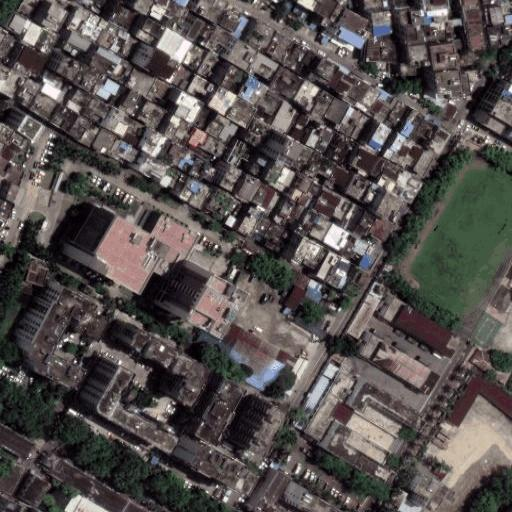building: (8, 276, 100, 386), (72, 200, 178, 283), (81, 352, 164, 443), (114, 320, 198, 396), (190, 329, 280, 394), (162, 259, 226, 328), (50, 458, 131, 512), (393, 304, 465, 362), (446, 369, 512, 428), (305, 369, 358, 440), (372, 342, 441, 396), (172, 435, 242, 488), (187, 375, 240, 443), (350, 380, 422, 430), (223, 322, 291, 374), (346, 282, 388, 341), (164, 143, 218, 187), (230, 395, 273, 450), (293, 376, 331, 430), (377, 162, 424, 205), (410, 471, 456, 512), (272, 351, 310, 400), (90, 45, 135, 84), (54, 56, 102, 92), (246, 468, 285, 512), (96, 24, 139, 61), (315, 251, 354, 291), (105, 109, 147, 146), (170, 91, 212, 128), (470, 348, 512, 385), (138, 153, 181, 189), (334, 9, 371, 50), (325, 424, 362, 465), (339, 235, 381, 271), (19, 20, 61, 55), (143, 47, 182, 84), (66, 6, 106, 42), (399, 108, 436, 145), (277, 137, 314, 174), (12, 44, 51, 79), (285, 483, 332, 512), (369, 93, 407, 128), (347, 76, 383, 111), (350, 146, 387, 180), (355, 452, 395, 483), (291, 237, 326, 272), (156, 29, 192, 63), (336, 107, 370, 142), (182, 45, 218, 78), (432, 70, 468, 102), (462, 6, 487, 51), (281, 41, 314, 75), (164, 113, 197, 146), (179, 177, 212, 210), (247, 52, 281, 84), (392, 138, 424, 171), (373, 190, 405, 223), (250, 183, 282, 216), (226, 40, 258, 72), (226, 96, 258, 128), (237, 76, 269, 108), (207, 188, 239, 220), (269, 68, 302, 99), (328, 66, 359, 99), (245, 19, 276, 51), (158, 1, 190, 32), (68, 115, 100, 146), (346, 174, 379, 204), (270, 99, 300, 132), (305, 120, 334, 154), (49, 102, 80, 133), (138, 99, 169, 130), (208, 113, 239, 144), (305, 151, 337, 181), (411, 147, 440, 180), (292, 175, 321, 208), (80, 97, 111, 127), (312, 187, 341, 219), (491, 82, 512, 126), (65, 492, 110, 512), (28, 91, 58, 121), (124, 68, 155, 97), (343, 268, 370, 301), (39, 72, 68, 102), (366, 216, 395, 246), (264, 32, 293, 61), (431, 42, 459, 72), (209, 87, 237, 117), (275, 199, 303, 229), (23, 476, 50, 507), (366, 39, 399, 64), (313, 56, 341, 85), (40, 3, 68, 32), (92, 75, 120, 104), (206, 24, 233, 54), (235, 174, 262, 204), (278, 264, 310, 289), (483, 113, 512, 140), (16, 115, 45, 142), (294, 81, 321, 110), (109, 5, 138, 32), (245, 119, 272, 148), (186, 74, 215, 101), (227, 140, 254, 169), (238, 206, 264, 236), (20, 259, 46, 289), (427, 127, 452, 156), (330, 137, 355, 166), (110, 140, 139, 165), (339, 203, 364, 232), (324, 97, 350, 124), (92, 128, 118, 155), (323, 224, 349, 251), (359, 334, 384, 362), (120, 88, 145, 116), (368, 122, 392, 151), (352, 210, 376, 239), (311, 92, 334, 122), (220, 66, 246, 92), (2, 140, 28, 166), (66, 88, 91, 115), (382, 297, 406, 325), (65, 30, 93, 54), (258, 90, 283, 116), (138, 19, 162, 46), (143, 131, 167, 158), (146, 81, 171, 106), (330, 401, 355, 425), (273, 168, 297, 193), (304, 279, 329, 303), (16, 79, 39, 105), (220, 165, 243, 191), (384, 133, 406, 160), (203, 135, 228, 158), (291, 114, 313, 140), (285, 285, 307, 311), (171, 66, 195, 89), (263, 221, 286, 245), (309, 216, 332, 240), (4, 162, 27, 186), (297, 211, 318, 236), (185, 18, 205, 42), (408, 43, 428, 64), (329, 166, 350, 186), (187, 127, 207, 148), (265, 162, 284, 184), (333, 197, 352, 219), (399, 10, 423, 27), (2, 499, 33, 512), (222, 12, 241, 33), (9, 13, 28, 34), (250, 155, 269, 176), (253, 216, 272, 237), (3, 182, 22, 203), (405, 24, 424, 44), (233, 16, 249, 38), (123, 500, 150, 512), (372, 11, 392, 27), (488, 26, 503, 46), (322, 363, 338, 381), (489, 7, 504, 24), (374, 24, 393, 37), (225, 214, 238, 229), (504, 14, 512, 24)
